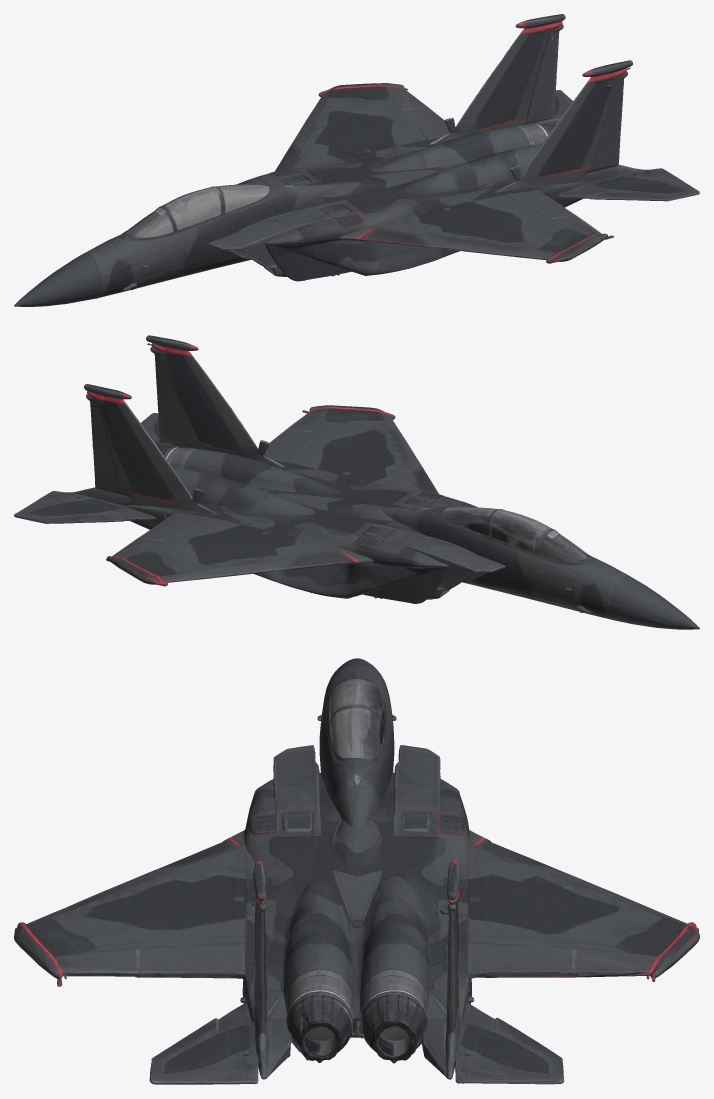
The model's file is enemy.glb.
3 views of the same model, one above another, from view 1: azimuth 30°, elevation 25°; view 2: azimuth 150°, elevation 25°; view 3: azimuth 270°, elevation 25° (orthographic). The views are drawn at different scales.
Visible parts, largest first — view 1: Mesh_0; view 2: Mesh_0; view 3: Mesh_0.
Boxes of the visible parts, box(x1,y1,x2,y2) form: Mesh_0: box(14, 14, 699, 306); Mesh_0: box(14, 335, 699, 629); Mesh_0: box(14, 658, 699, 1084).
Bounding box in the file's own units: 1.9 × 0.4401 × 1.24.
Materials: 1 (1 with a texture image).
